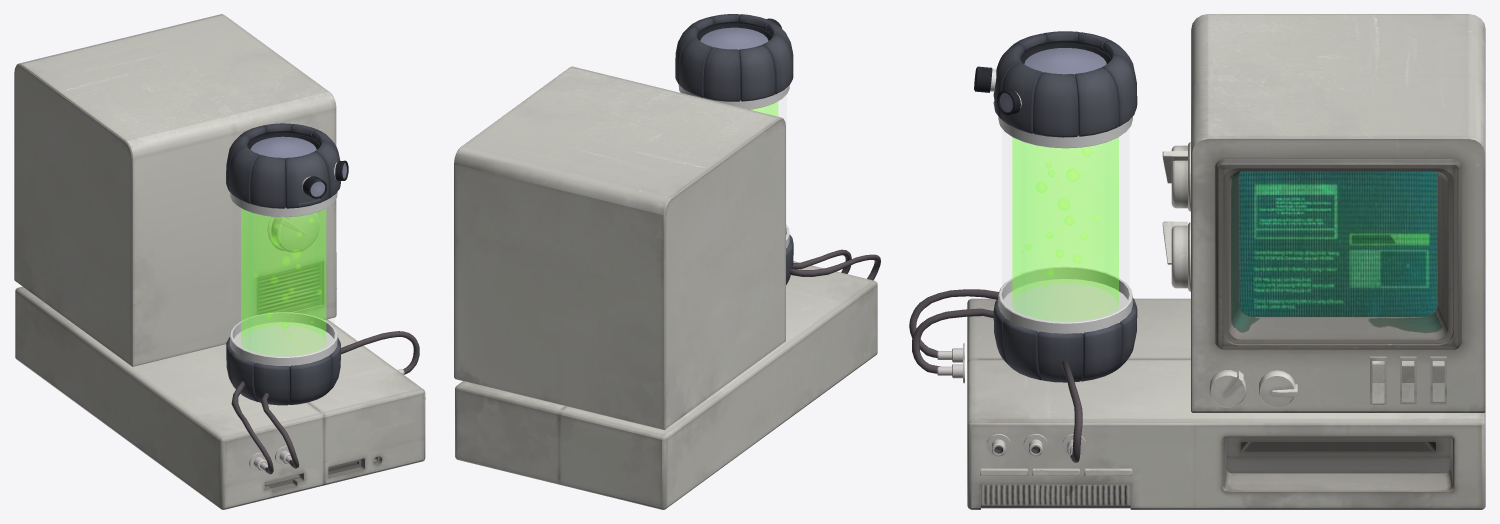
Rendered from Computer_Blendertest.gltf.
The picture shows the model from 3 angles, left to right: view 1: azimuth 30°, elevation 25°; view 2: azimuth 150°, elevation 25°; view 3: azimuth 270°, elevation 25°; orthographic projection. The views are drawn at different scales.
Parts seen in each view (by area): view 1: Cube, Buisranddingen, Buis, Doprand2, Draad, draaiknop, draaiknop.001buis, Bubble, IJZER; view 2: Cube, Buisranddingen, Draad, Doprand2; view 3: Cube, Buisranddingen, Buis, Doprand2, draaiknop, knoppie, Draad, IJZER, draaiknop.001buis, Bubble.
Part boxes in pixels (bbox=[...]): Cube: bbox=[14, 14, 425, 509]; Buisranddingen: bbox=[226, 123, 340, 405]; Buis: bbox=[241, 208, 325, 355]; Doprand2: bbox=[230, 192, 337, 366]; Draad: bbox=[231, 331, 419, 474]; draaiknop: bbox=[267, 212, 336, 288]; draaiknop.001buis: bbox=[302, 160, 348, 198]; Bubble: bbox=[253, 218, 321, 336]; IJZER: bbox=[249, 369, 425, 472]; Cube: bbox=[454, 66, 877, 509]; Buisranddingen: bbox=[675, 14, 793, 284]; Draad: bbox=[790, 249, 880, 280]; Doprand2: bbox=[678, 84, 789, 248]; Cube: bbox=[967, 14, 1485, 509]; Buisranddingen: bbox=[993, 31, 1137, 382]; Buis: bbox=[1012, 137, 1118, 321]; Doprand2: bbox=[998, 116, 1132, 333]; draaiknop: bbox=[1162, 142, 1297, 407]; knoppie: bbox=[980, 356, 1446, 475]; Draad: bbox=[909, 289, 1082, 462]; IJZER: bbox=[937, 343, 1086, 458]; draaiknop.001buis: bbox=[974, 66, 1021, 114]; Bubble: bbox=[1020, 147, 1109, 288].
Bounding box in the file's own units: 2.36 × 2.99 × 3.91.
Materials: 16 (10 with a texture image).
